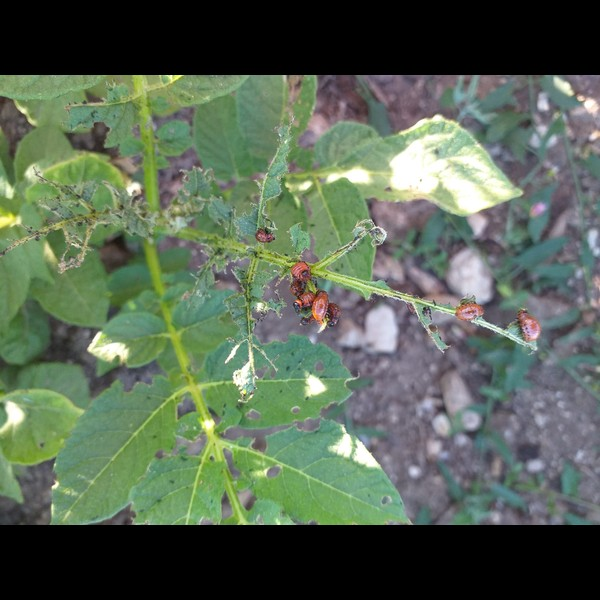hrosc: (516, 304, 540, 342), (455, 296, 484, 323), (309, 290, 329, 323), (288, 260, 310, 283), (256, 224, 277, 248)
